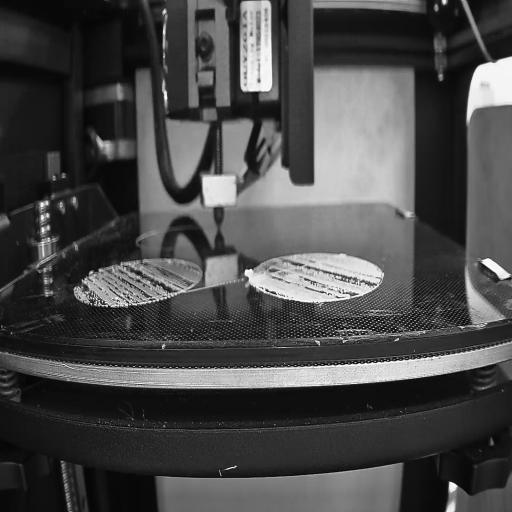under_extrusion: (257, 258, 383, 302), (76, 264, 200, 308)
